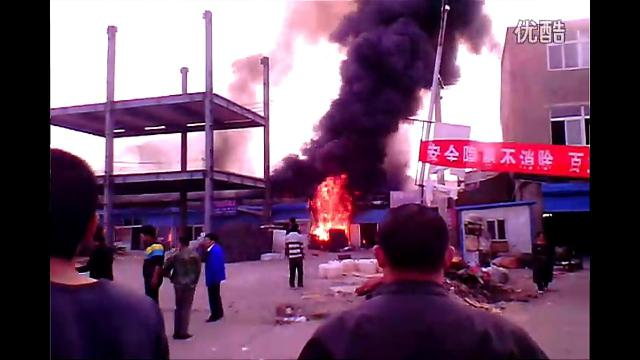fire: (312, 175, 350, 239)
